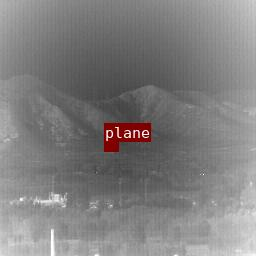plane: (104, 142, 118, 151)
